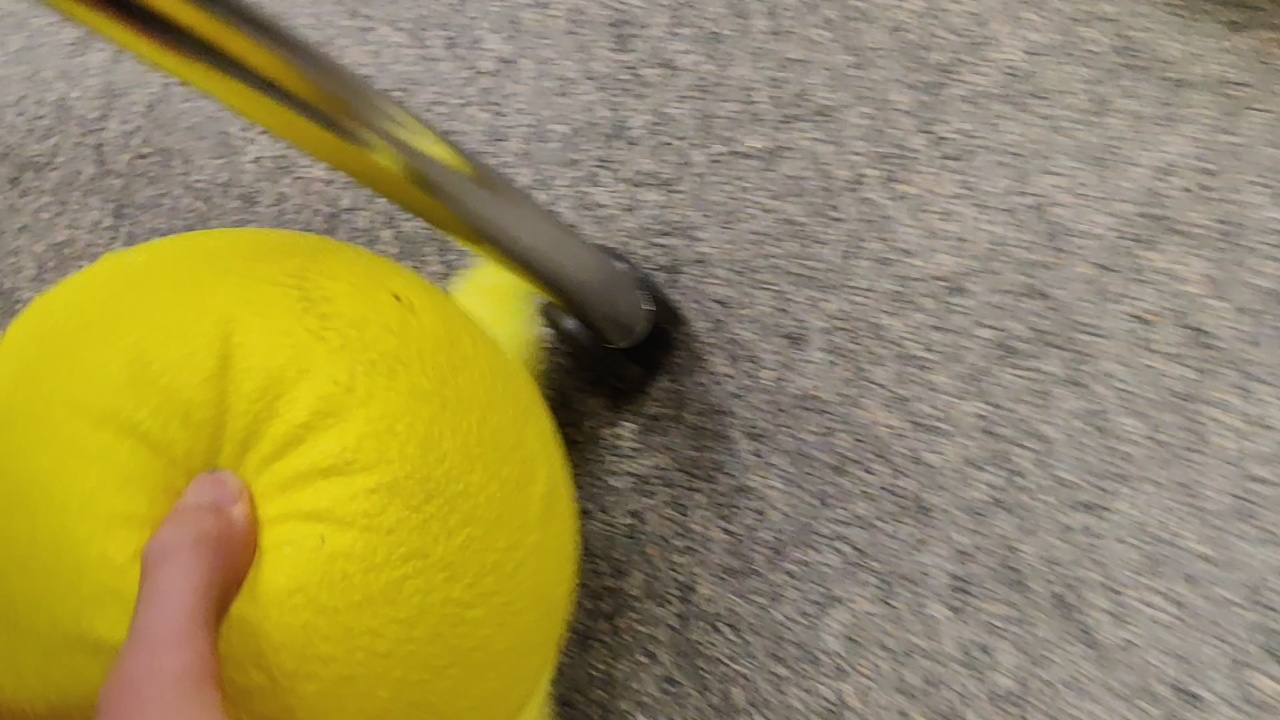Ball: (1, 227, 581, 720)
